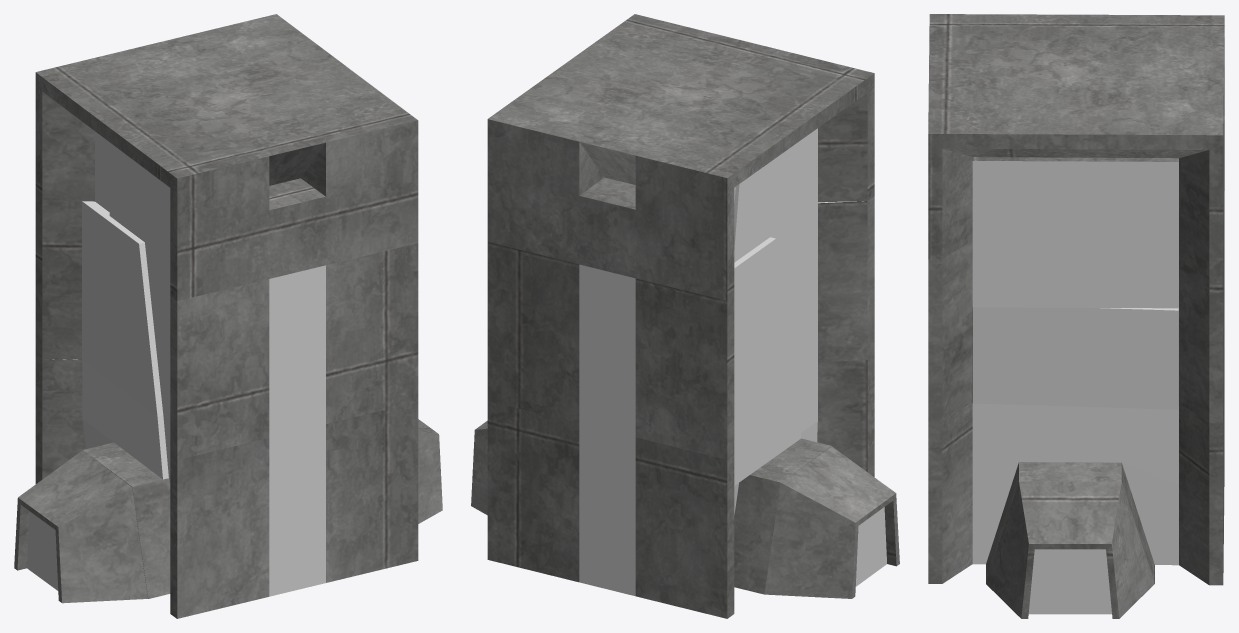
File: 101BuildingFixed3.fbx
The picture shows the model from 3 angles, left to right: view 1: azimuth 30°, elevation 25°; view 2: azimuth 150°, elevation 25°; view 3: azimuth 270°, elevation 25°; orthographic projection. The views are drawn at different scales.
Visible parts, largest first — view 1: Areas:building.247, Areas:building.248, Areas:building.028, Areas:building.079, Areas:building.019; view 2: Areas:building.247, Areas:building.248, Areas:building.028, Areas:building.079, Areas:building.019; view 3: Areas:building.247, Areas:building.248, Areas:building.028, Areas:building.019.
Part boxes in pixels (bbox=[...]): Areas:building.247: bbox=[35, 14, 418, 300]; Areas:building.248: bbox=[35, 195, 418, 459]; Areas:building.028: bbox=[35, 354, 418, 618]; Areas:building.079: bbox=[14, 450, 147, 603]; Areas:building.019: bbox=[418, 419, 442, 523]; Areas:building.247: bbox=[487, 14, 874, 300]; Areas:building.248: bbox=[487, 196, 874, 459]; Areas:building.028: bbox=[487, 355, 874, 618]; Areas:building.079: bbox=[764, 446, 899, 598]; Areas:building.019: bbox=[471, 420, 487, 515]; Areas:building.247: bbox=[928, 14, 1224, 260]; Areas:building.248: bbox=[928, 162, 1224, 422]; Areas:building.028: bbox=[928, 325, 1224, 585]; Areas:building.019: bbox=[986, 481, 1154, 618].
Size of the model in its own units: 110 by 122 by 72.69.
